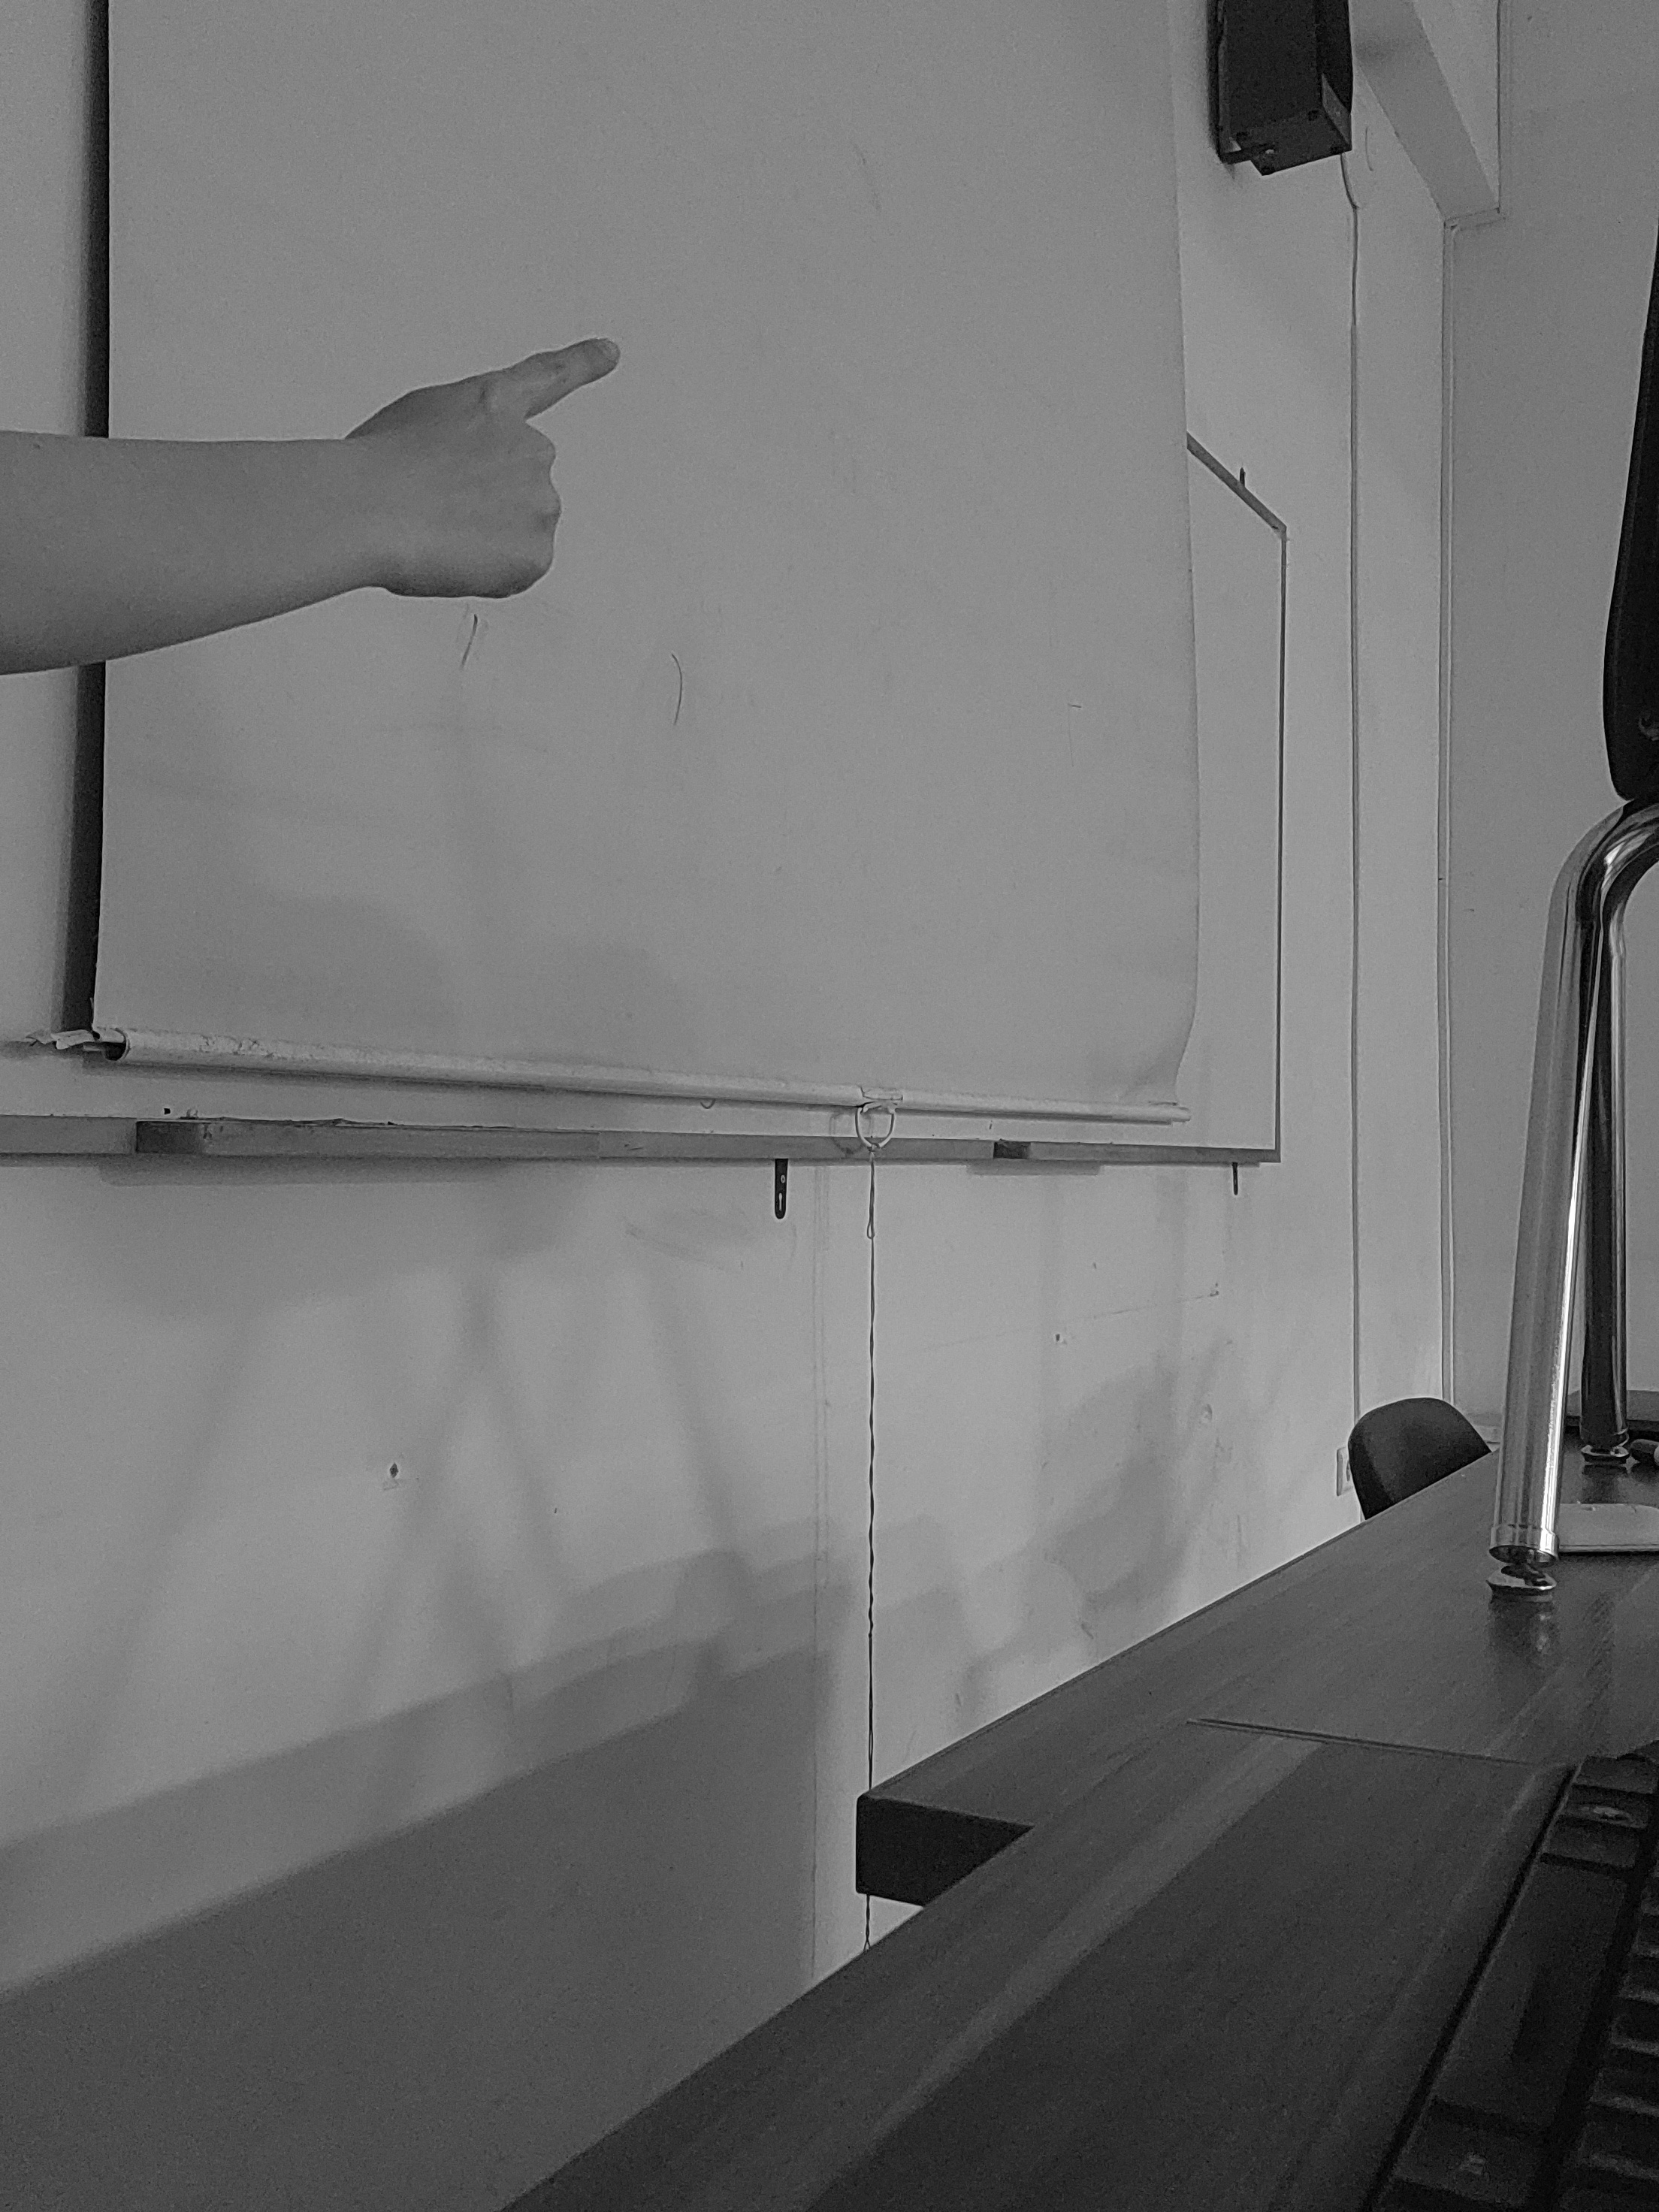pointing_gesture: (342, 338, 622, 603)
